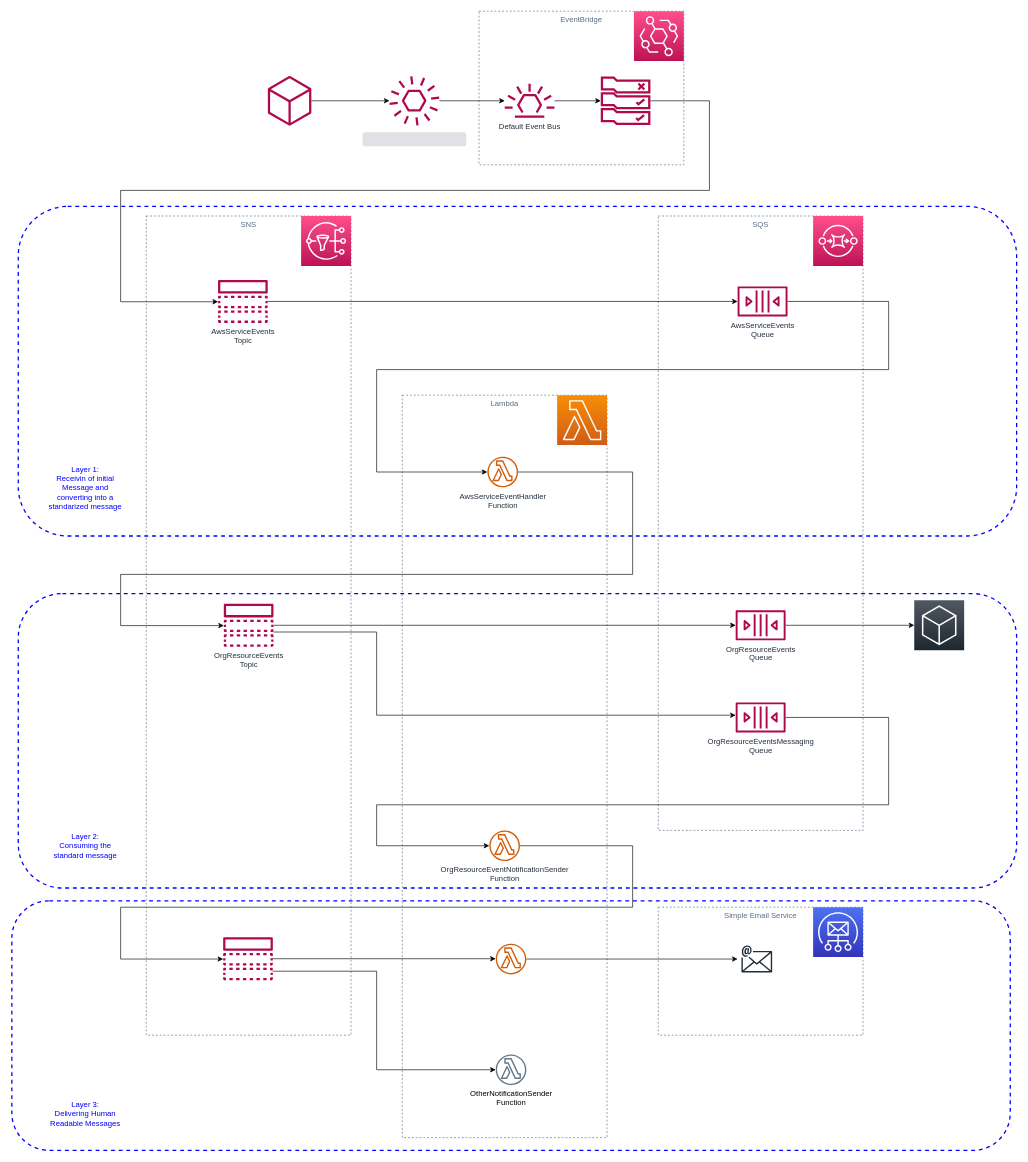
This 1028x1162 diagram has some shape labels left out. Each missing label, with the centre of its shape:
AWS Resource: (x=289, y=100)
Consolidated Organizational Resource Event Handler: (x=939, y=625)
Email: (x=756, y=958)
EmailNotificationSender Function: (x=510, y=958)
OrgResourceEventsNotification Topic: (x=248, y=958)
Rule: (x=625, y=100)
STATE CHANGE EVENT: (x=414, y=139)
